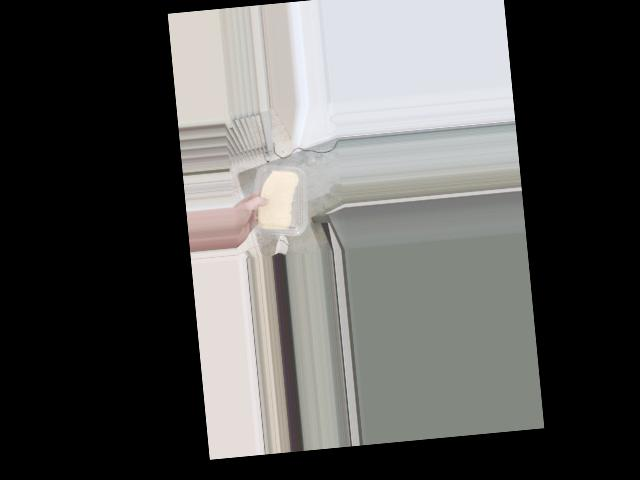cheese: (248, 163, 306, 238)
